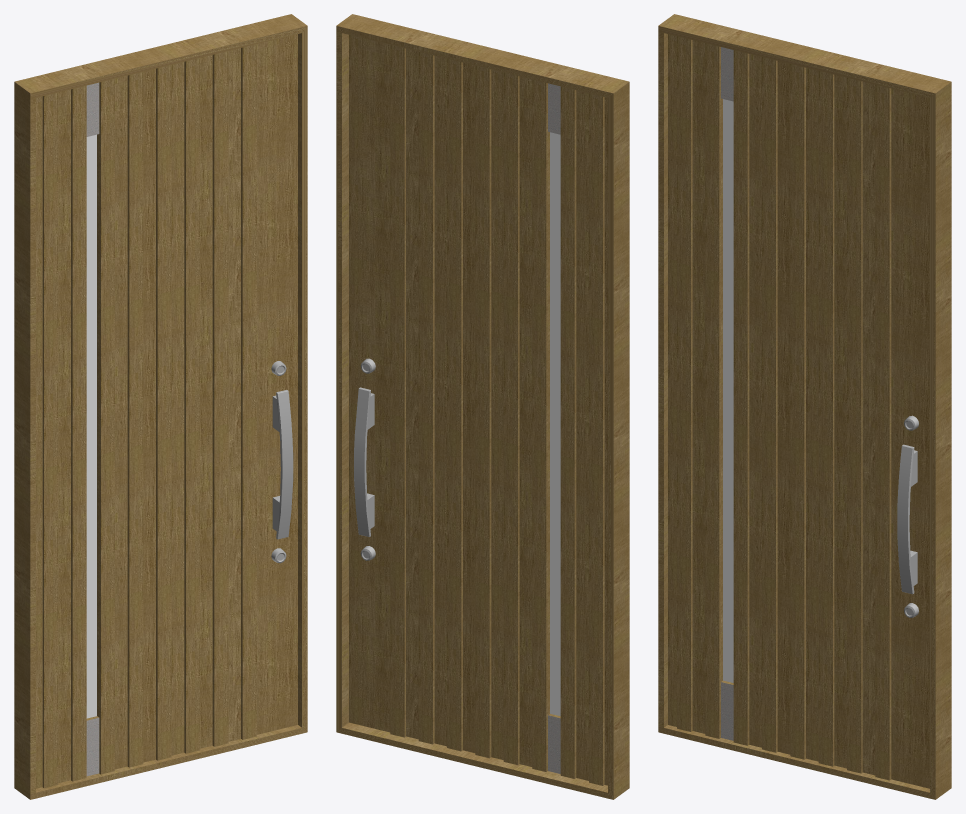
The model's file is SM_FrontDoor_6.fbx.
3 views of the same model, side by side, from view 1: azimuth 30°, elevation 25°; view 2: azimuth 150°, elevation 25°; view 3: azimuth 330°, elevation 25° (orthographic).
Parts seen in each view (by area): view 1: SM_FrontDoor_6; view 2: SM_FrontDoor_6; view 3: SM_FrontDoor_6.
Boxes of the visible parts, left/top/right/bottom form: SM_FrontDoor_6: left=14, top=14, right=307, bottom=799; SM_FrontDoor_6: left=336, top=14, right=629, bottom=799; SM_FrontDoor_6: left=658, top=14, right=951, bottom=799.
Bounding box in the file's own units: 0.992 × 2.42 × 0.162.
4 materials, 2 textured.
